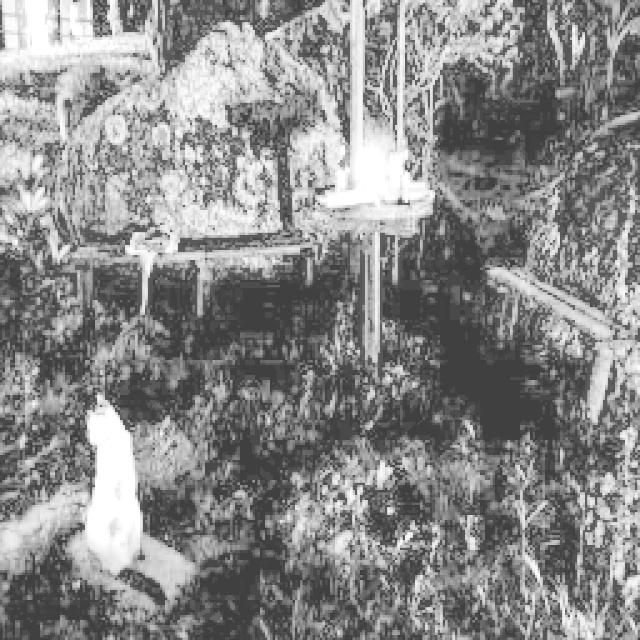cat: (78, 395, 150, 573)
